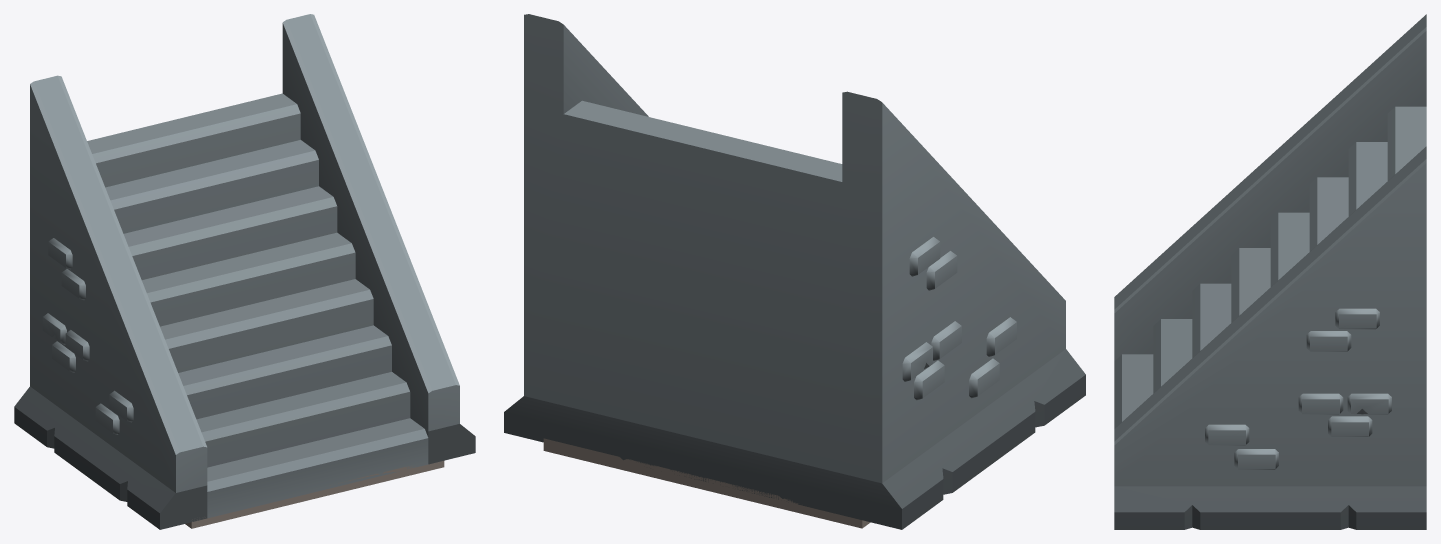
Rendered from stairs.gltf.
3 views of the same model, side by side, from view 1: azimuth 30°, elevation 25°; view 2: azimuth 150°, elevation 25°; view 3: azimuth 270°, elevation 25° (orthographic). The views are drawn at different scales.
Parts seen in each view (by area): view 1: stairs, floor_tile_large; view 2: stairs, floor_tile_large; view 3: stairs.
Part boxes in pixels (x1=…): stairs: x1=14, y1=14, x2=475, y2=529; floor_tile_large: x1=185, y1=461, x2=444, y2=528; stairs: x1=504, y1=14, x2=1085, y2=529; floor_tile_large: x1=543, y1=438, x2=870, y2=528; stairs: x1=1114, y1=14, x2=1426, y2=529.
Size of the model in its own units: 5 by 5.2 by 4.
2 materials, 2 textured.
